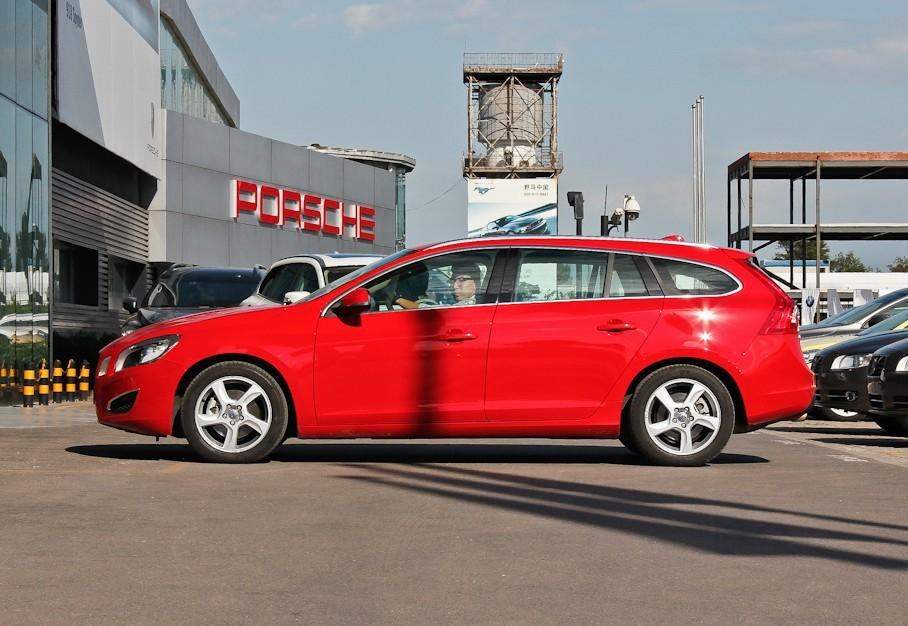Wagon: (93, 235, 818, 466)
